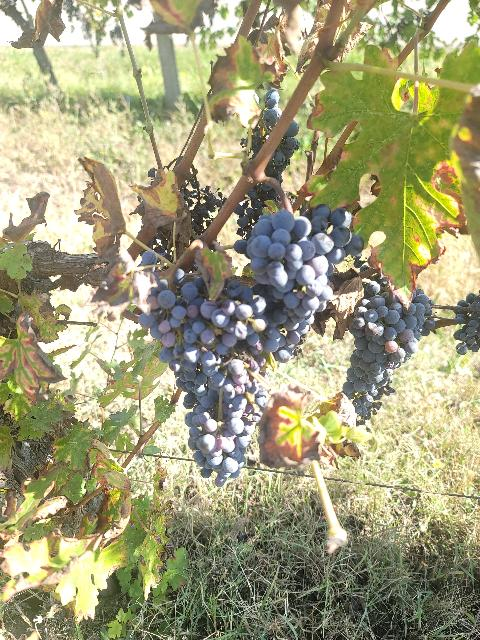grapes: (234, 205, 364, 312), (342, 281, 430, 419), (185, 395, 254, 488), (199, 281, 284, 352), (139, 274, 206, 361)
